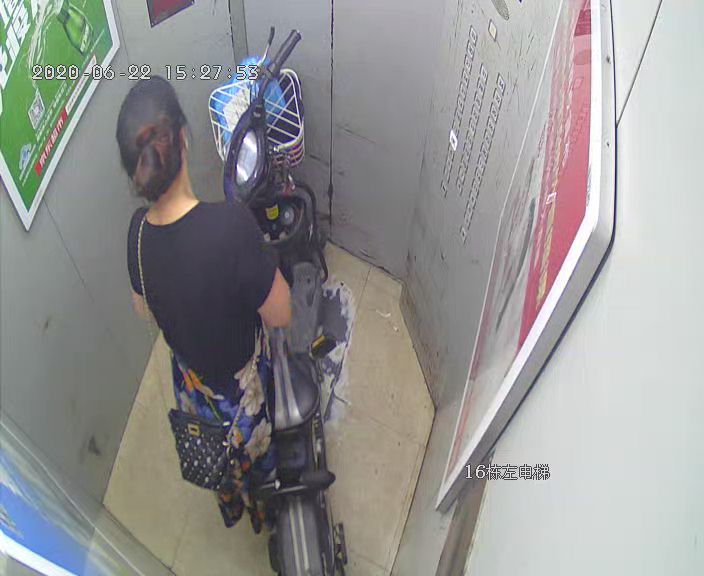Electric-bicycle: (216, 26, 347, 573)
